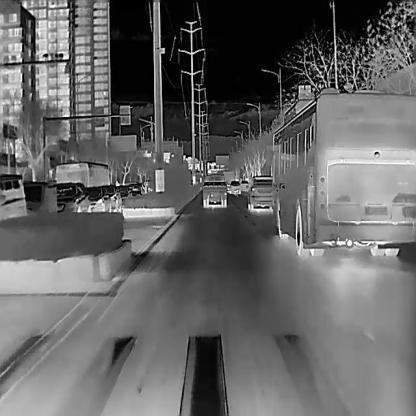bus: (266, 86, 416, 256), (54, 160, 108, 188)
car: (21, 180, 56, 216), (0, 172, 26, 220), (56, 180, 90, 213), (247, 174, 272, 210), (85, 187, 111, 213), (101, 184, 121, 213), (127, 183, 144, 196), (117, 184, 131, 198), (229, 180, 240, 194), (240, 180, 248, 188)
truck: (202, 173, 226, 206)
